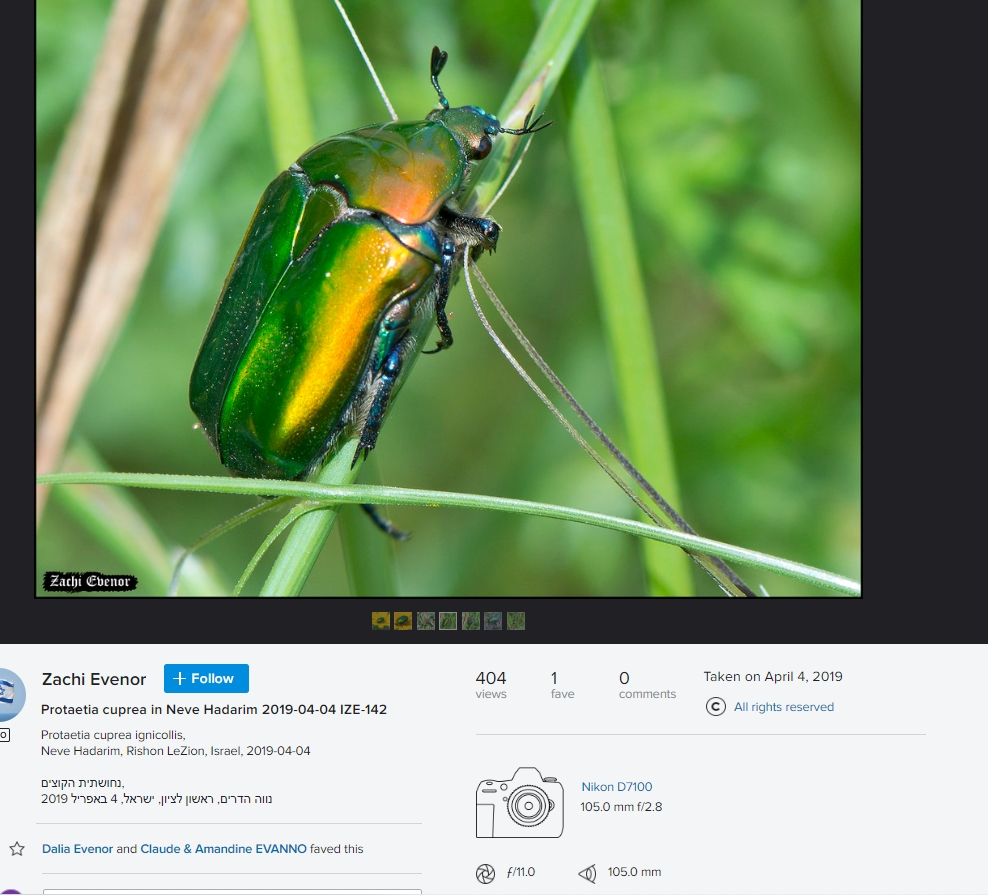Protaetia_cuprea_ignicollis: (179, 47, 556, 541)
